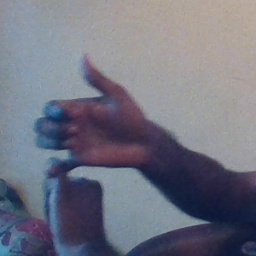S: (23, 51, 157, 236)
